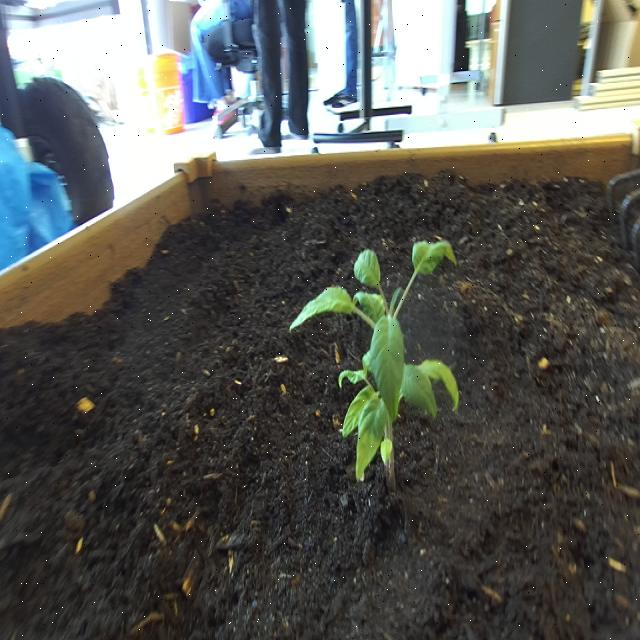Healthy: (281, 216, 483, 514)
